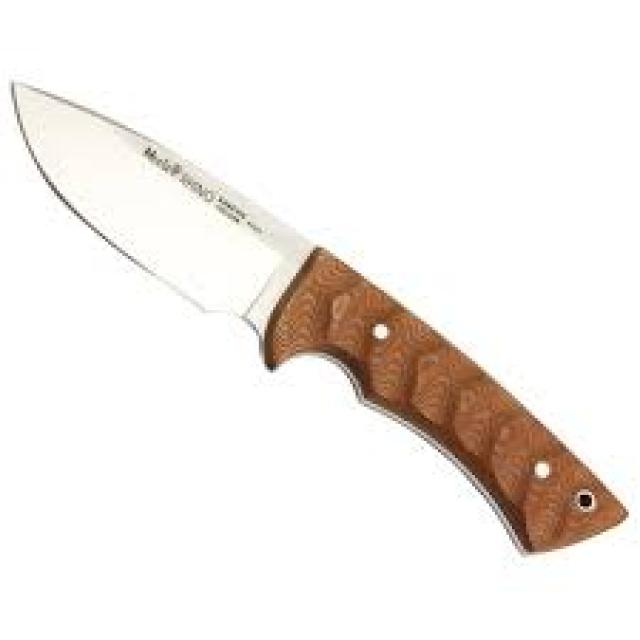knife: (6, 73, 629, 567)
